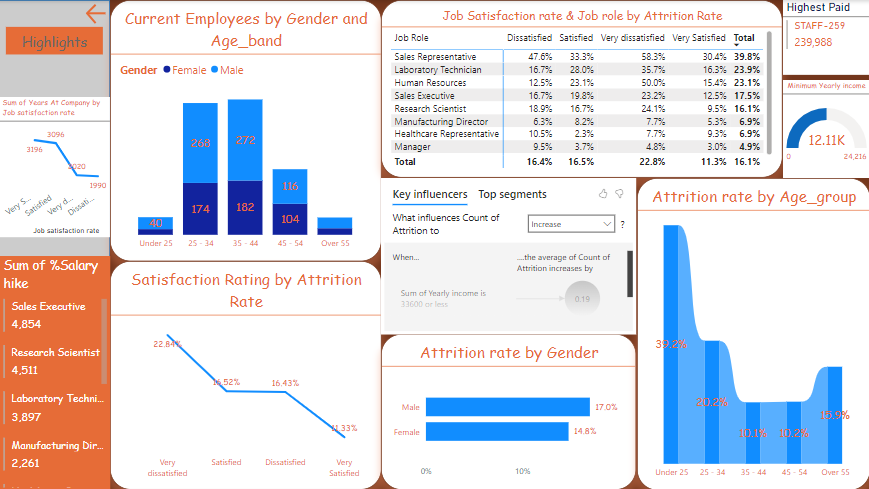

This screenshot's page, from the dashboard's own definition file:
{"tool":"powerbi","page":{"name":"HR view 2","canvas":[1280,720],"ordinal":1},"visuals":[{"type":"actionButton","box":[27,159,109,40],"z":0},{"type":"shape","box":[0,0,163,720],"z":1000},{"type":"actionButton","box":[124,0,39,40],"z":2000},{"type":"actionButton","box":[11,40,142,40],"z":3000},{"type":"columnChart","title":"Current Employees by Gender and Age_band","fields":{"Category":["HR data.CF_age band"],"Y":["Sum(HR data.CF_current Employee)"],"Series":["HR data.Gender"]},"box":[163,0,399,384],"z":4000},{"type":"pivotTable","title":"Job Satisfaction rate & Job role by Attrition Rate","fields":{"Rows":["HR data.Job Role"],"Values":["HR data.Attrition rate"],"Columns":["HR data.Job satisfaction rate"]},"box":[562,0,590,261],"z":5000},{"type":"lineChart","title":"Satisfaction Rating by Attrition Rate","fields":{"Category":["HR data.Job satisfaction rate"],"Y":["HR data.Attrition rate"]},"box":[163,384,399,336],"z":6000},{"type":"clusteredBarChart","title":"Attrition rate by Gender","fields":{"Category":["HR data.Gender"],"Y":["HR data.Attrition rate"]},"box":[562,491,375,229],"z":7000},{"type":"ribbonChart","title":"Attrition rate by Age_group","fields":{"Category":["HR data.CF_age band"],"Y":["HR data.Attrition rate"]},"box":[937,261,343,459],"z":8000},{"type":"keyDriversVisual","fields":{"Target":["HR data.Count of Attrition"],"ExplainBy":["Sum(HR data.Yearly income)"]},"box":[562,261,375,230],"z":9000},{"type":"multiRowCard","title":"Sum of %Salary hike","fields":{"Values":["Sum(HR data.Percent Salary Hike)","HR data.Job Role"]},"box":[1.5,360,161.6,360],"z":10000},{"type":"gauge","title":"Minimum Yearly income","fields":{"Y":["Min(HR data.Yearly income)"]},"box":[1152,117,128,144],"z":11000},{"type":"lineChart","fields":{"Y":["Sum(HR data.Years At Company)"],"Category":["HR data.Job satisfaction rate"]},"box":[0,143,163,206],"z":12000},{"type":"multiRowCard","title":"Highest Paid","fields":{"Values":["Sum(HR data.Yearly income)","HR data.emp no"]},"box":[1152,0,128,110],"z":13001}]}

Visuals, with their boxes in screenshot pixels (x1, y1, x2, y2), scaled from the page's 1280x720 canvas onto the 869x489 screenshot:
actionButton: 18, 108, 92, 135
shape: 0, 0, 111, 488
actionButton: 84, 0, 111, 27
actionButton: 7, 27, 104, 54
"Current Employees by Gender and Age_band" columnChart: 111, 0, 382, 261
"Job Satisfaction rate & Job role by Attrition Rate" pivotTable: 382, 0, 782, 177
"Satisfaction Rating by Attrition Rate" lineChart: 111, 261, 382, 488
"Attrition rate by Gender" clusteredBarChart: 382, 333, 636, 488
"Attrition rate by Age_group" ribbonChart: 636, 177, 868, 488
keyDriversVisual - HR data.Count of Attrition x Sum(HR data.Yearly income): 382, 177, 636, 333
"Sum of %Salary hike" multiRowCard: 1, 244, 111, 488
"Minimum Yearly income" gauge: 782, 79, 868, 177
lineChart - Sum(HR data.Years At Company) x HR data.Job satisfaction rate: 0, 97, 111, 237
"Highest Paid" multiRowCard: 782, 0, 868, 75
